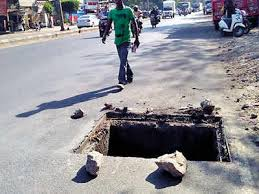Manhole-Open: (76, 100, 237, 172)
car: (75, 13, 97, 25)
human: (102, 1, 140, 84)
